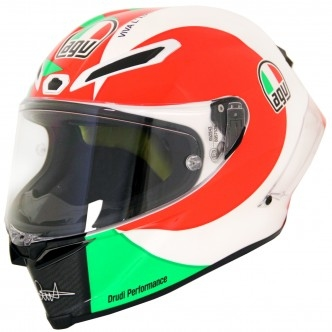with_helmet: (5, 2, 332, 327)
